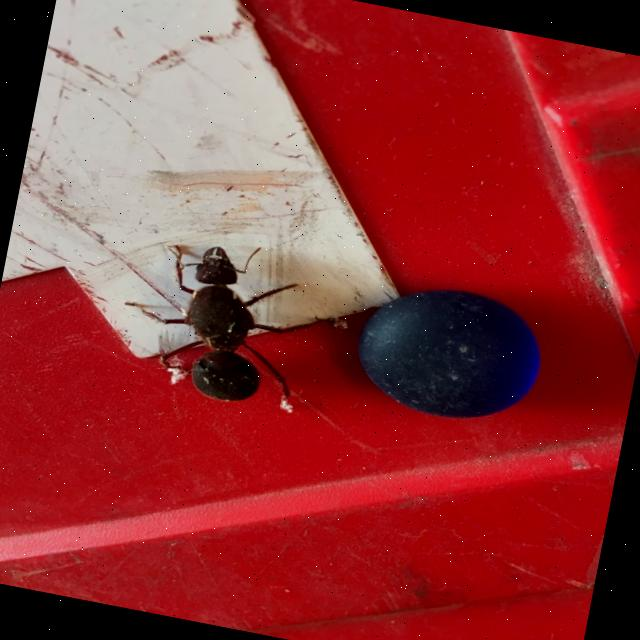Alive-Female-Dealate: (110, 224, 344, 419)
